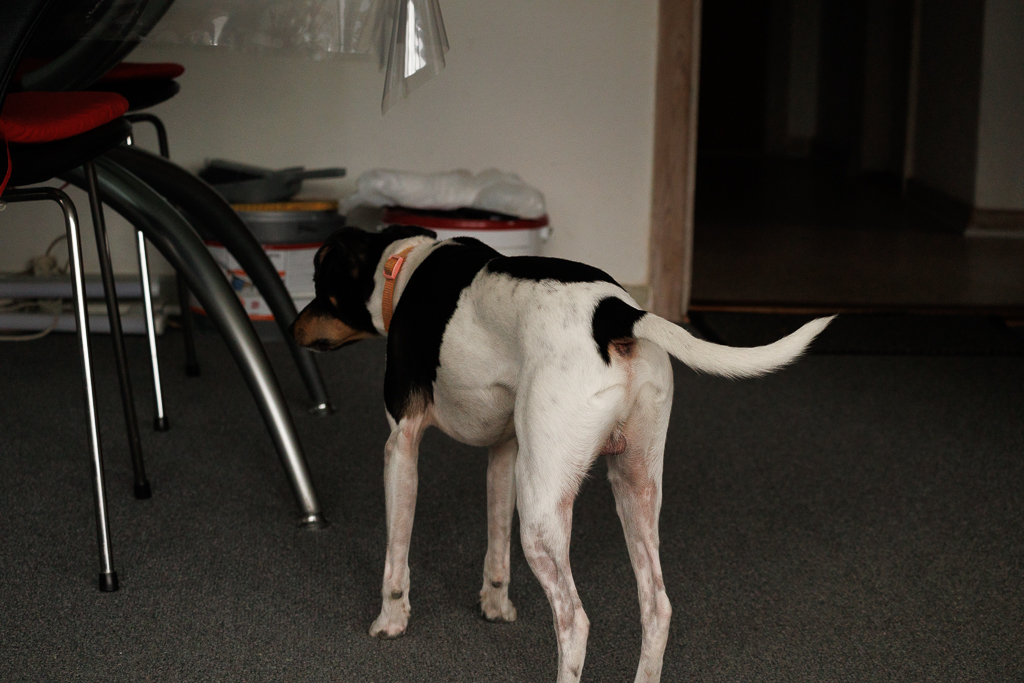Dog: (283, 210, 844, 683)
